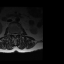CCS_normal: (14, 31, 15, 39)
LFS_stenosis: (17, 31, 19, 36)
LLS_stenosis: (15, 31, 17, 36)
RFS_stenosis: (11, 31, 12, 36)
RLS_stenosis: (12, 32, 14, 36)
